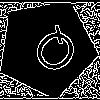Q: (22, 23, 84, 84)
